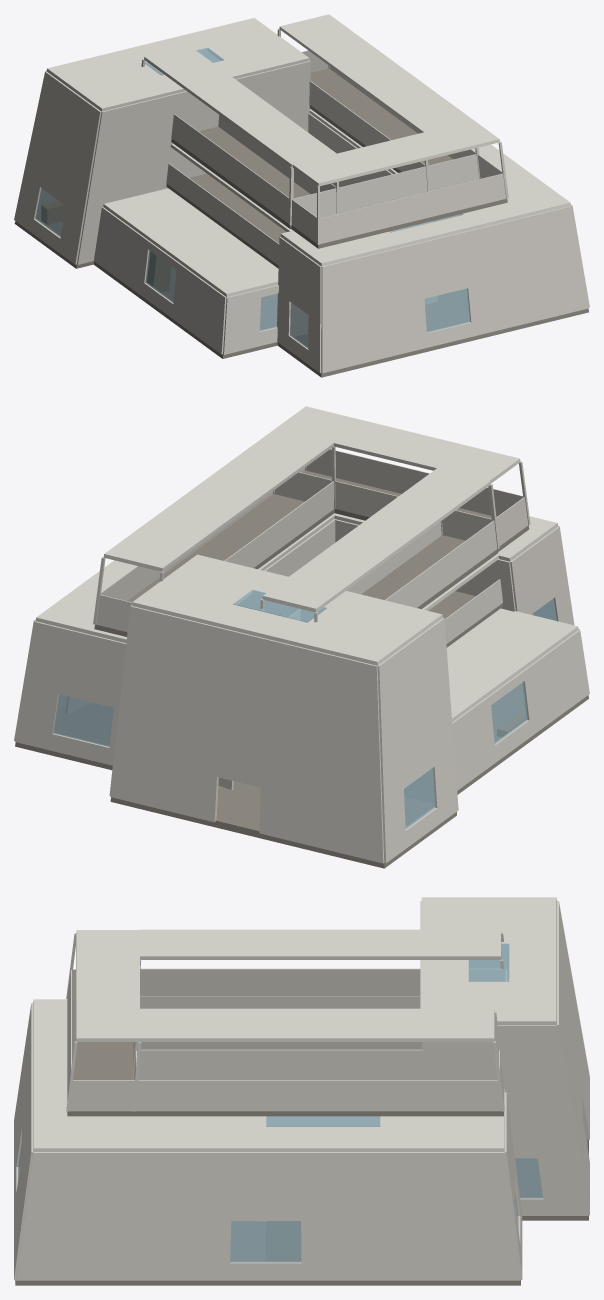
3 renders of one model, top to bottom at view 1: azimuth 30°, elevation 25°; view 2: azimuth 150°, elevation 25°; view 3: azimuth 270°, elevation 25°, orthographic. The views are drawn at different scales.
Visible parts, largest first — view 1: B__WAL__G__WALL__006, B__WAL__G__WALL__007, B__WAL__F__FC_WALL__001, B__CLG__R__ROOF__000, B__CLG__U_G__ROOF__000, B__CLG__U_R2__ROOF__000, B__CLG__U_G__ROOF__001, B__WAL__U_G__PARAPET__006, B__CLG__F__ROOF__000, B__CLG__F__ROOF__001, B__WAL__U_R2__PARAPET__003, B__WAL__F__WALL__002 (+43 smaller); view 2: B__WAL__F__EF_WALL__000, B__WAL__F__EF_WALL__001, B__CLG__U_G__ROOF__000, B__CLG__U_R2__ROOF__000, B__CLG__R__ROOF__000, B__CLG__U_G__ROOF__001, B__CLG__F__ROOF__000, B__WAL__F__EF_LINTEL__000, B__CLG__F__ROOF__001, B__WAL__F__WALL__003, B__WAL__G__WALL__003, B__WAL__R__WALL__004 (+39 smaller); view 3: B__WAL__G__WALL__004, B__WAL__G__WALL__005, B__CLG__U_G__ROOF__000, B__WAL__U_G__PARAPET__001, B__CLG__U_R2__ROOF__000, B__CLG__G__ROOF__001, B__WAL__U_G__PARAPET__003, B__WAL__U_R2__PARAPET__003, B__WAL__F__WALL__000, B__CLG__U_G__ROOF__001, B__CLG__F__ROOF__000, B__CLG__F__ROOF__001 (+32 smaller).
Part boxes in pixels (x1=…): B__WAL__G__WALL__006: x1=462, y1=206, x2=588, y2=336; B__WAL__G__WALL__007: x1=321, y1=242, x2=427, y2=373; B__WAL__F__FC_WALL__001: x1=77, y1=75, x2=250, y2=264; B__CLG__R__ROOF__000: x1=103, y1=188, x2=278, y2=297; B__CLG__U_G__ROOF__000: x1=279, y1=14, x2=473, y2=132; B__CLG__U_R2__ROOF__000: x1=144, y1=45, x2=336, y2=167; B__CLG__U_G__ROOF__001: x1=292, y1=120, x2=499, y2=186; B__WAL__U_G__PARAPET__006: x1=320, y1=173, x2=506, y2=243; B__CLG__F__ROOF__000: x1=46, y1=49, x2=180, y2=111; B__CLG__F__ROOF__001: x1=189, y1=18, x2=309, y2=76; B__WAL__U_R2__PARAPET__003: x1=171, y1=114, x2=289, y2=223; B__WAL__F__WALL__002: x1=58, y1=100, x2=101, y2=264; B__WAL__F__EF_WALL__000: x1=259, y1=638, x2=384, y2=863; B__WAL__F__EF_WALL__001: x1=110, y1=606, x2=225, y2=822; B__CLG__U_G__ROOF__000: x1=103, y1=428, x2=333, y2=571; B__CLG__U_R2__ROOF__000: x1=262, y1=468, x2=490, y2=612; B__CLG__R__ROOF__000: x1=446, y1=608, x2=578, y2=721; B__CLG__U_G__ROOF__001: x1=275, y1=406, x2=520, y2=483; B__CLG__F__ROOF__000: x1=284, y1=592, x2=442, y2=665; B__WAL__F__EF_LINTEL__000: x1=217, y1=629, x2=265, y2=787; B__CLG__F__ROOF__001: x1=132, y1=554, x2=274, y2=624; B__WAL__F__WALL__003: x1=377, y1=652, x2=406, y2=863; B__WAL__G__WALL__003: x1=15, y1=621, x2=67, y2=750; B__WAL__R__WALL__004: x1=522, y1=630, x2=589, y2=736; B__WAL__G__WALL__004: x1=300, y1=1152, x2=520, y2=1280; B__WAL__G__WALL__005: x1=16, y1=1152, x2=232, y2=1280; B__CLG__U_G__ROOF__000: x1=139, y1=1008, x2=494, y2=1041; B__WAL__U_G__PARAPET__001: x1=135, y1=1080, x2=501, y2=1111; B__CLG__U_R2__ROOF__000: x1=140, y1=929, x2=501, y2=959; B__CLG__G__ROOF__001: x1=133, y1=1127, x2=504, y2=1151; B__WAL__U_G__PARAPET__003: x1=138, y1=1049, x2=426, y2=1079; B__WAL__U_R2__PARAPET__003: x1=140, y1=968, x2=501, y2=996; B__WAL__F__WALL__000: x1=519, y1=1025, x2=587, y2=1215; B__CLG__U_G__ROOF__001: x1=76, y1=930, x2=139, y2=1041; B__CLG__F__ROOF__000: x1=421, y1=897, x2=556, y2=947; B__CLG__F__ROOF__001: x1=421, y1=981, x2=556, y2=1024.
Size of the model in its own units: 22.88 by 10.89 by 27.23.
